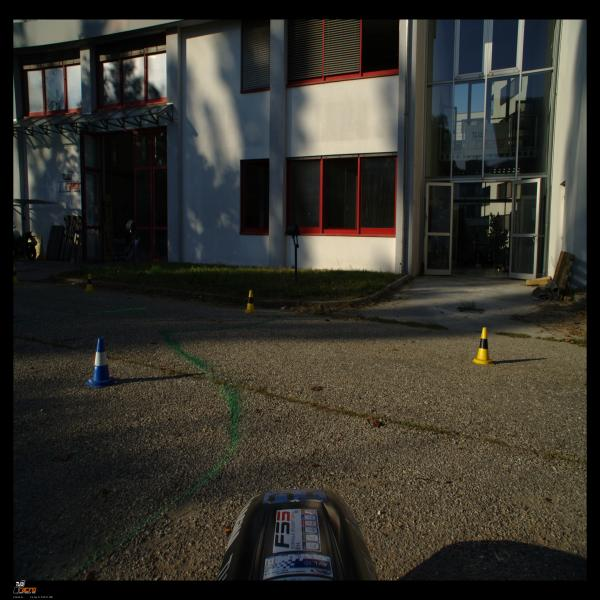blue_cone: (84, 337, 117, 388)
yellow_cone: (471, 327, 495, 365), (244, 290, 257, 313), (84, 274, 94, 292), (13, 266, 19, 283)
